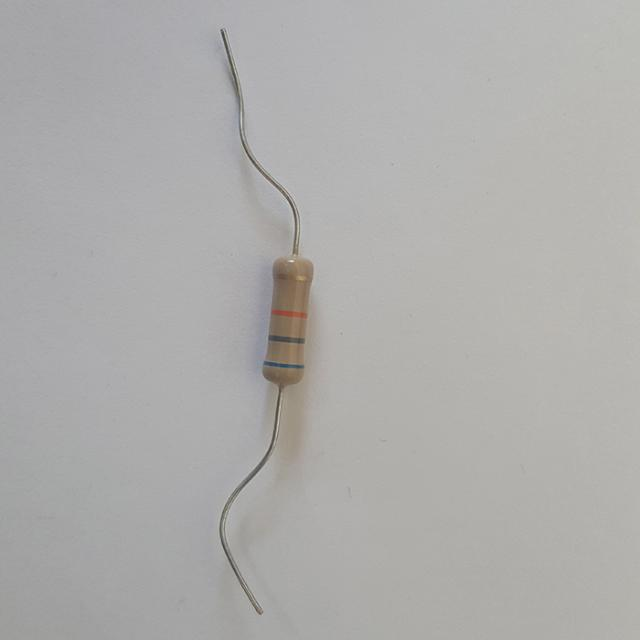blue: (263, 360, 304, 368)
gold: (276, 272, 310, 281)
grey: (270, 334, 304, 344)
orange: (272, 309, 305, 317)
resistor: (259, 238, 318, 401)
